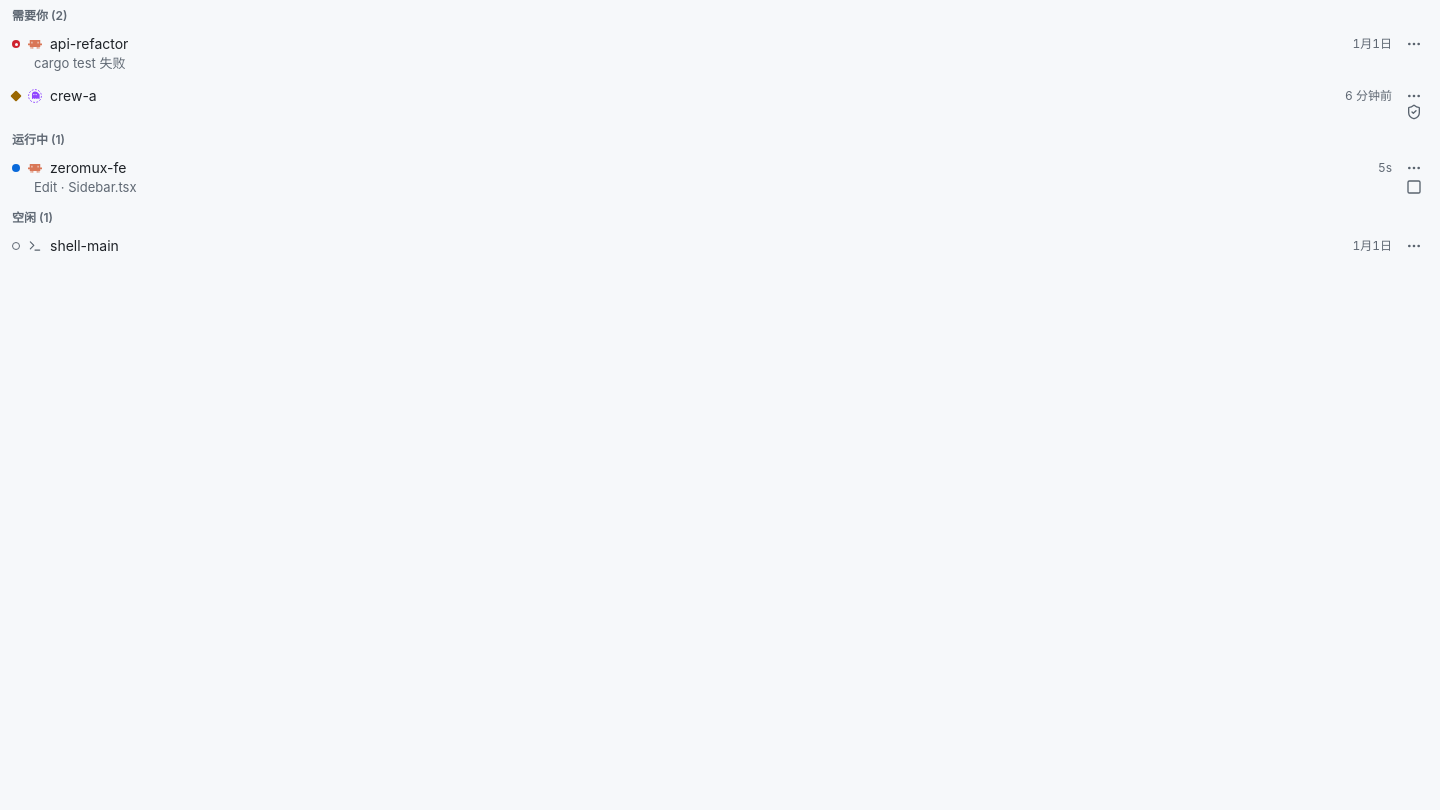
Test: TriageList › inline 中断 on a running row does not select it; false → toast, nothing else
Step 1. Click the button named "中断 zeromux-fe" → [1414, 187], box [1400,173,1428,201]
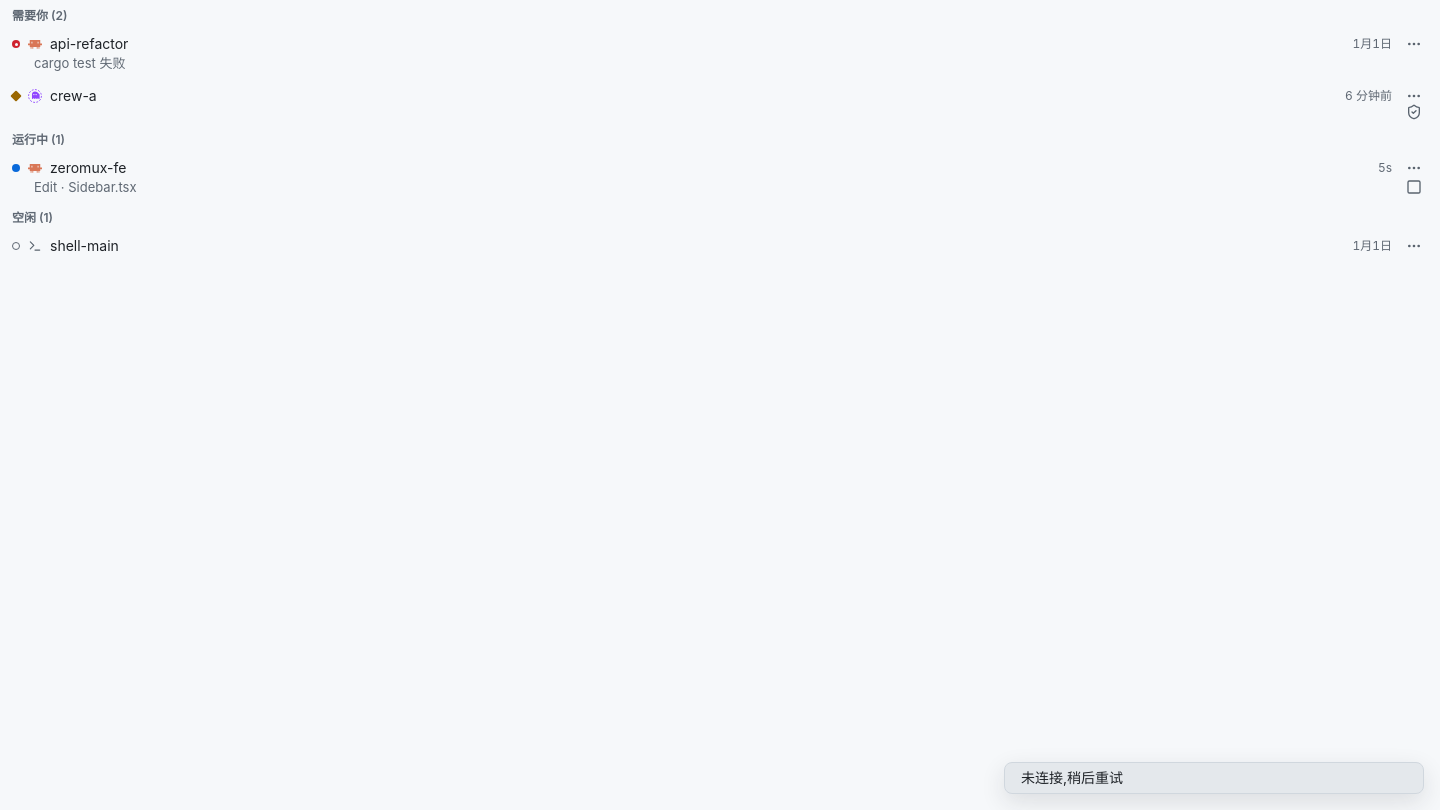
Expected: the text "未连接,稍后重试" is shown, [1021,769,1123,786]
